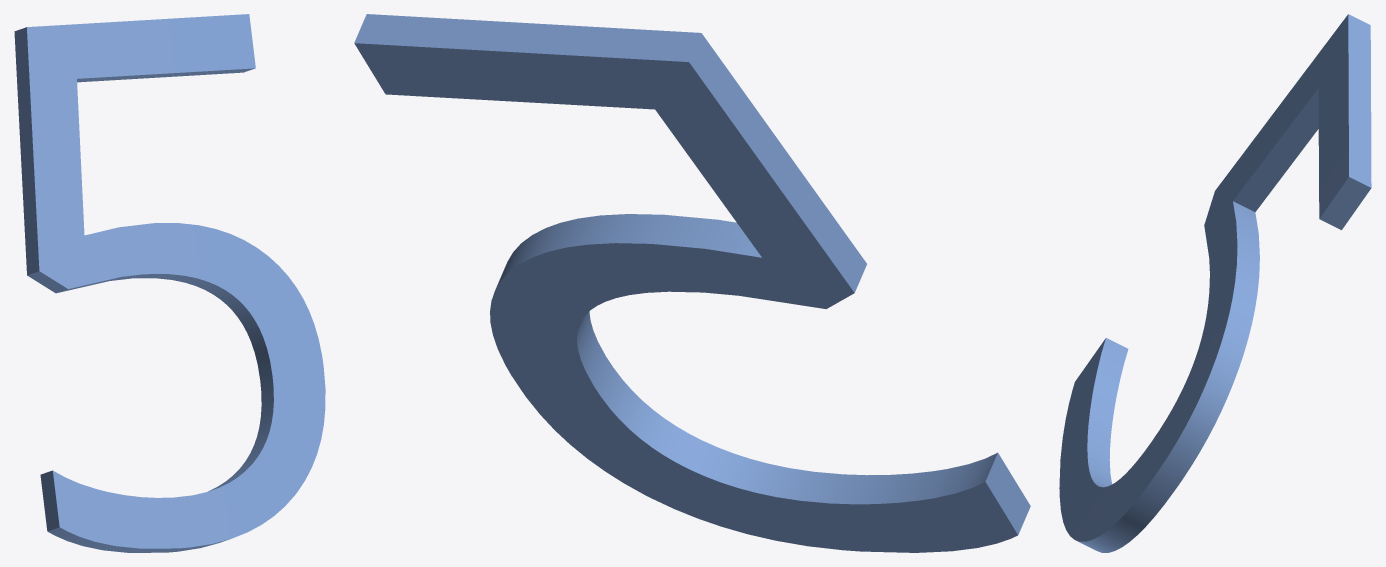
File: New_Number_5.gltf
3 renders of one model, left to right at view 1: azimuth 30°, elevation 25°; view 2: azimuth 150°, elevation 25°; view 3: azimuth 270°, elevation 25°, orthographic. The views are drawn at different scales.
Parts seen in each view (by area): view 1: Part 77; view 2: Part 77; view 3: Part 77.
Boxes of the visible parts, bbox=[...] form: Part 77: bbox=[14, 14, 325, 552]; Part 77: bbox=[354, 14, 1030, 552]; Part 77: bbox=[1059, 14, 1371, 552].
Bounding box in the file's own units: 0.00384 × 0.00513 × 0.00301.
